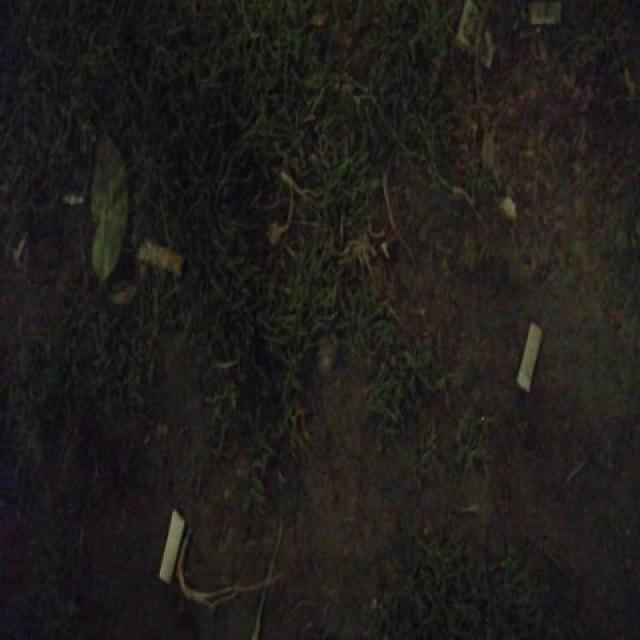non-organic waste: (132, 230, 188, 282), (156, 505, 189, 588), (514, 316, 546, 396)
